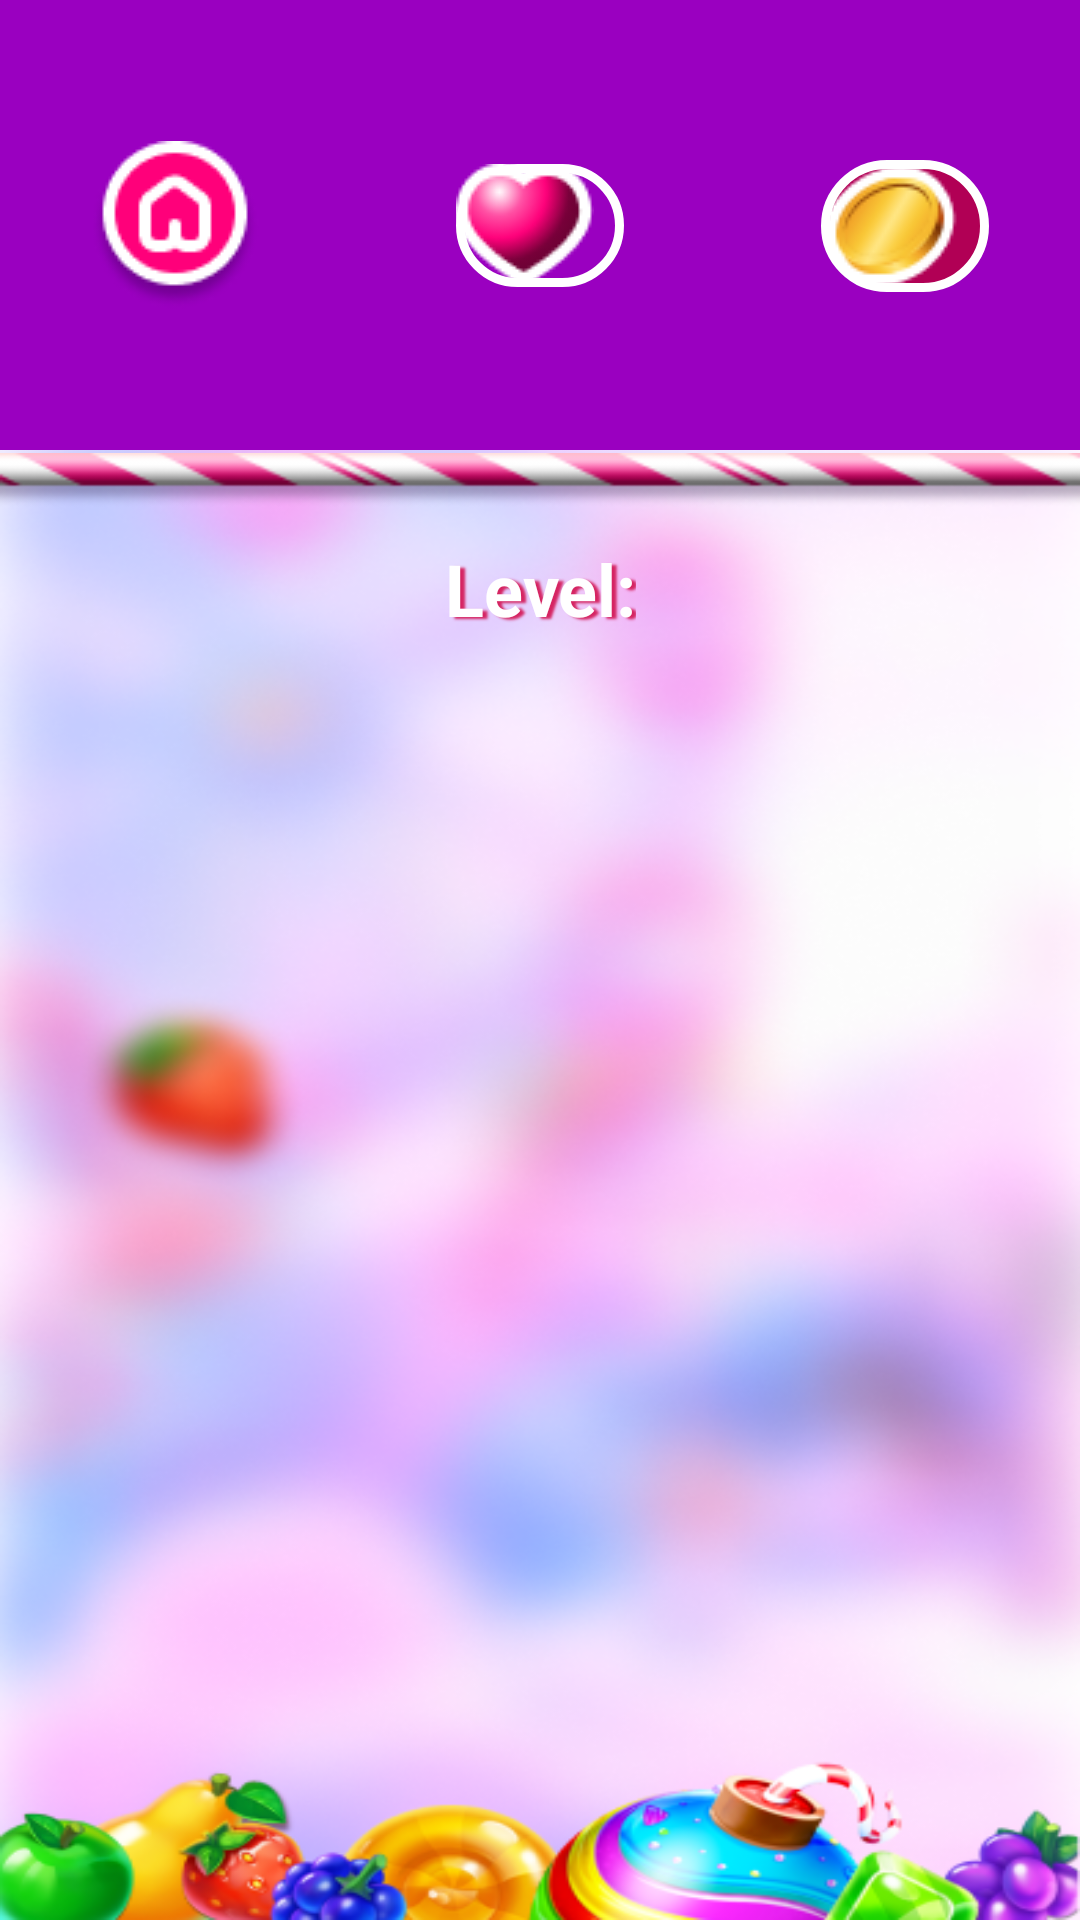

Named icons in this screenshot (1080px x 1920px) and their bounding boxes, (x1, y1, x2, y2):
home: (102, 141, 248, 297)
